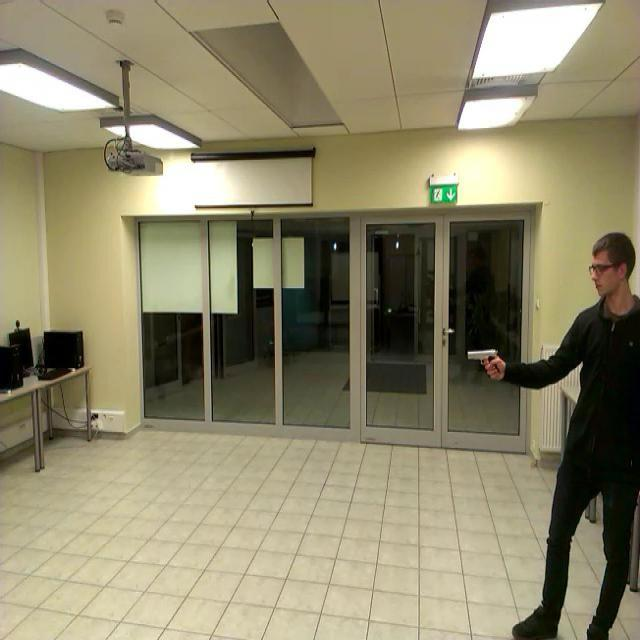weapon: (462, 349, 503, 378)
